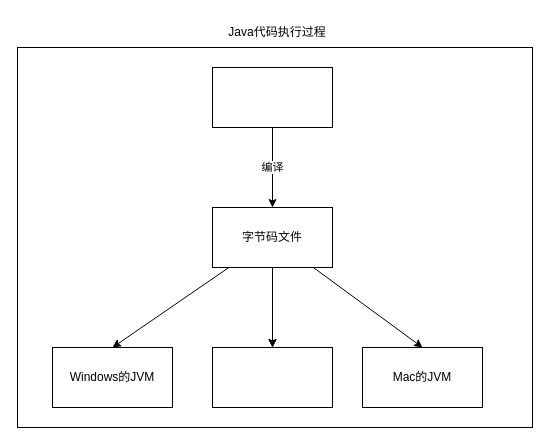
Image size: 550x445. Some labels were removed from this diagram. Each missing label, with the centre of its shape:
"java程序" belongs at (x=272, y=97).
"Linux的JVM" belongs at (x=272, y=377).
